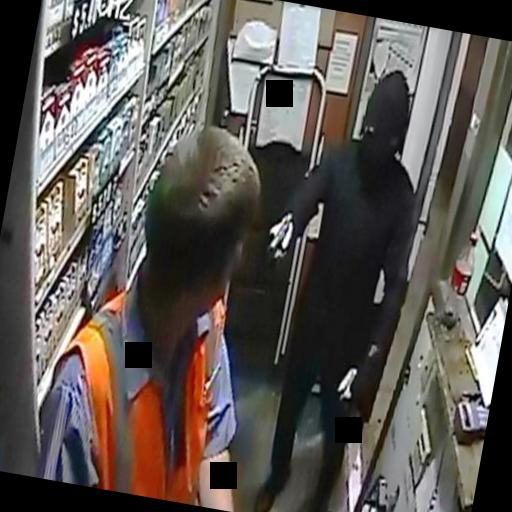Handgun: (263, 213, 292, 266)
